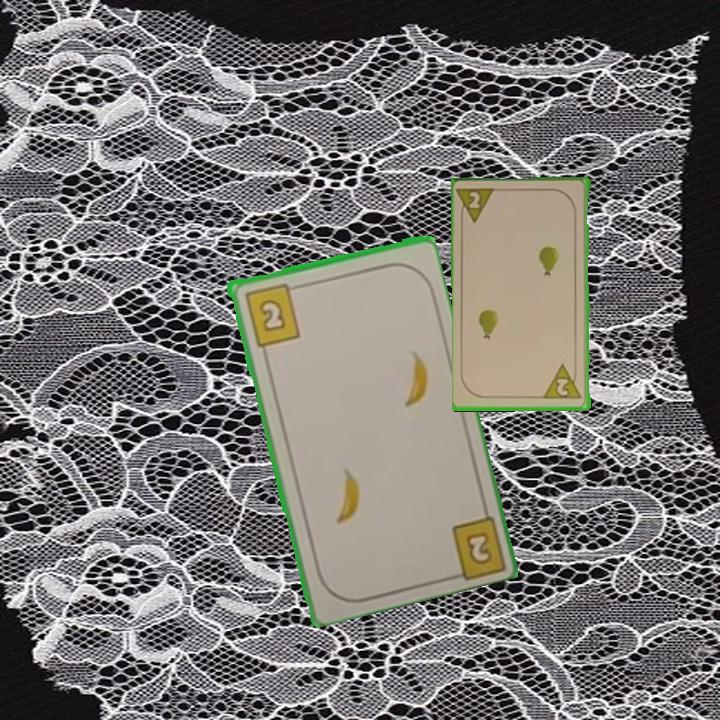2b: (240, 279, 303, 349), (461, 527, 496, 568)
2p: (456, 185, 500, 227), (542, 361, 585, 402)
